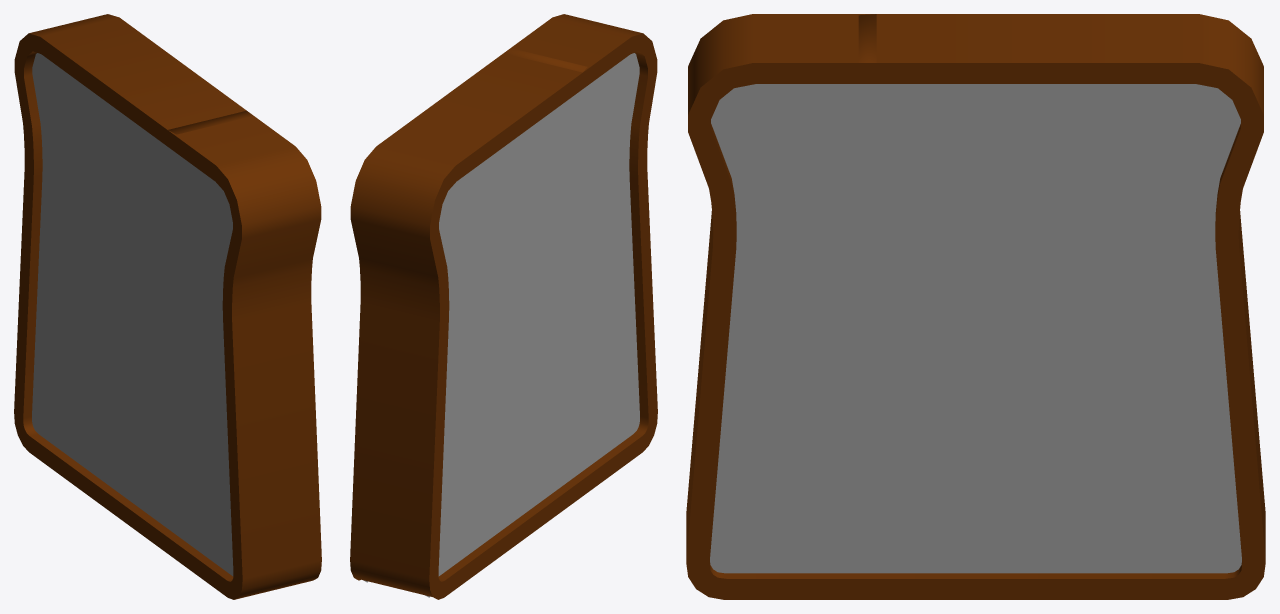
Rendered from Chlebek_1.fbx.
3 renders of one model, left to right at view 1: azimuth 30°, elevation 25°; view 2: azimuth 150°, elevation 25°; view 3: azimuth 270°, elevation 25°, orthographic. The views are drawn at different scales.
Parts seen in each view (by area): view 1: chlebek_1; view 2: chlebek_1; view 3: chlebek_1.
Part boxes in pixels (<box>): chlebek_1: <box>14,14,321,599</box>; chlebek_1: <box>350,14,657,599</box>; chlebek_1: <box>686,14,1265,599</box>.
Size of the model in its own units: 39.61 by 202 by 198.
